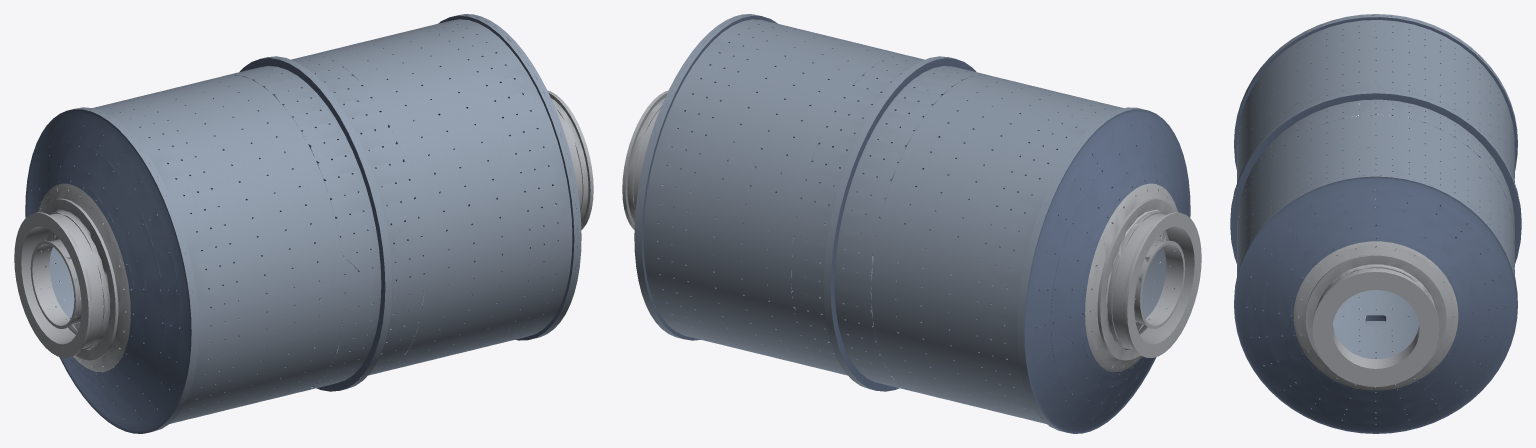
Rendered from mill-ball-full.glb.
The picture shows the model from 3 angles, left to right: view 1: azimuth 30°, elevation 25°; view 2: azimuth 150°, elevation 25°; view 3: azimuth 270°, elevation 25°; orthographic projection. The views are drawn at different scales.
Visible parts, largest first — view 1: millShell:outer, millHead:outer, millTrunnion:outer; view 2: millShell:outer, millHead:outer, millTrunnion:outer; view 3: millShell:outer, millHead:outer, millTrunnion:outer.
Part boxes in pixels (<box>): millShell:outer: <box>49,14,581,431</box>; millHead:outer: <box>25,15,577,433</box>; millTrunnion:outer: <box>14,90,593,371</box>; millShell:outer: <box>634,14,1173,431</box>; millHead:outer: <box>638,15,1190,433</box>; millTrunnion:outer: <box>622,90,1201,371</box>; millShell:outer: <box>1230,14,1521,388</box>; millHead:outer: <box>1230,15,1521,433</box>; millTrunnion:outer: <box>1293,82,1458,390</box>.
Size of the model in its own units: 14.49 by 8.49 by 8.49.
3 materials, 3 textured.
